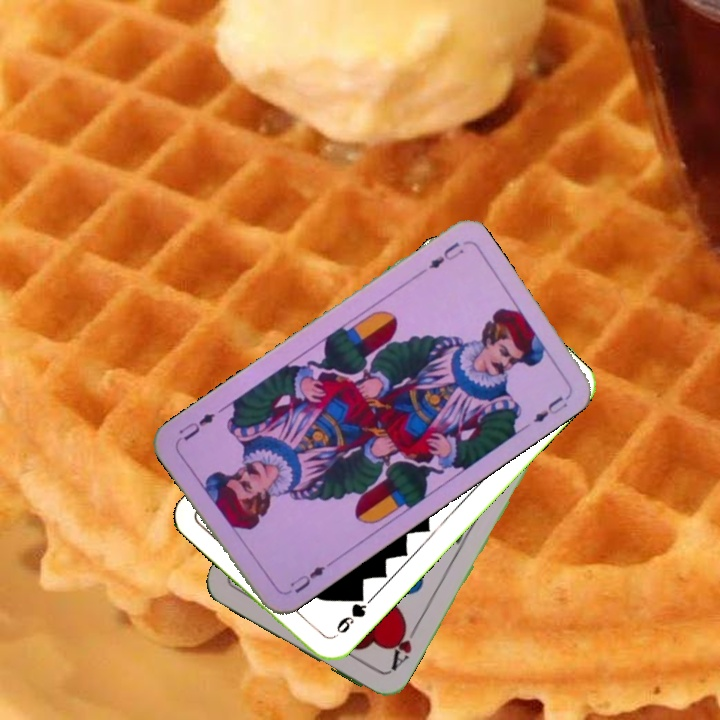EU: (414, 238, 467, 279), (285, 557, 334, 596)
G9: (327, 589, 369, 641)
HA: (385, 619, 421, 674)
